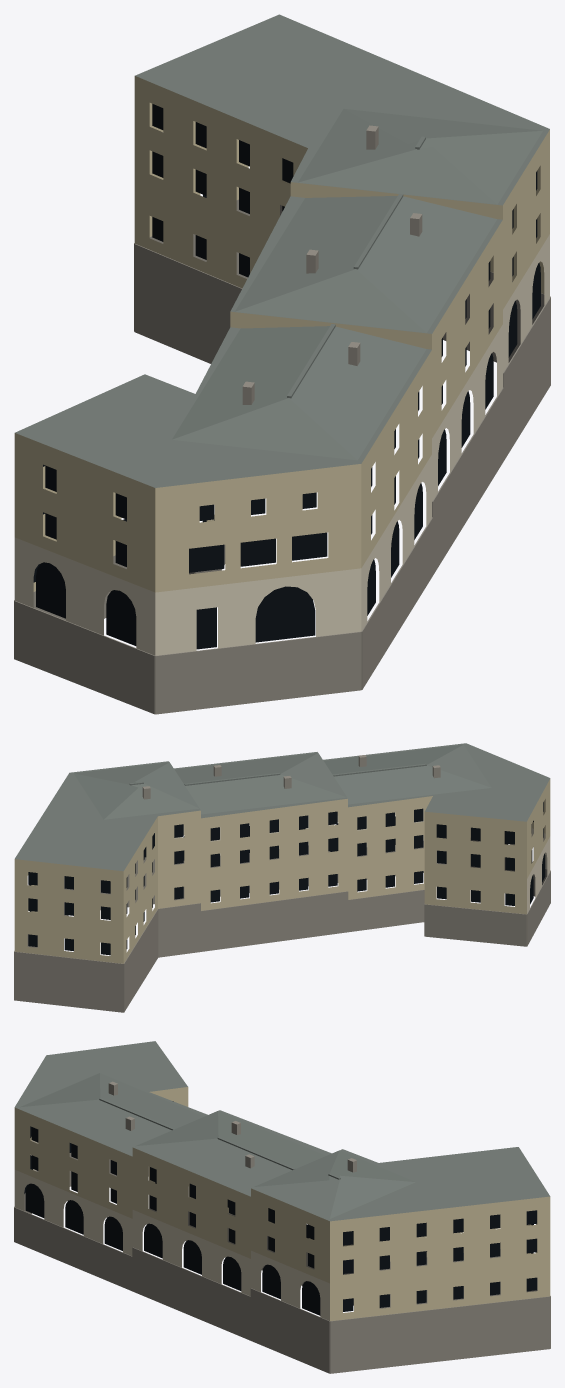
Rendered from bmorskaya33.lod.glb.
3 renders of one model, top to bottom at view 1: azimuth 30°, elevation 25°; view 2: azimuth 150°, elevation 25°; view 3: azimuth 270°, elevation 25°, orthographic. The views are drawn at different scales.
Parts seen in each view (by area): view 1: bmorskaya33_roof, bmorskaya33_wall, bmorskaya33_stone, bmorskaya33_wall2, bmorskaya33_glass; view 2: bmorskaya33_wall, bmorskaya33_roof, bmorskaya33_stone, bmorskaya33_glass, bmorskaya33_wall2; view 3: bmorskaya33_wall, bmorskaya33_roof, bmorskaya33_stone, bmorskaya33_glass, bmorskaya33_wall2.
Boxes of the visible parts, bbox=[...] form: bmorskaya33_roof: bbox=[15, 14, 549, 487]; bmorskaya33_wall: bbox=[14, 76, 549, 592]; bmorskaya33_stone: bbox=[14, 125, 550, 714]; bmorskaya33_wall2: bbox=[14, 234, 549, 655]; bmorskaya33_glass: bbox=[33, 104, 540, 649]; bmorskaya33_wall: bbox=[14, 779, 550, 963]; bmorskaya33_roof: bbox=[15, 743, 550, 871]; bmorskaya33_stone: bbox=[14, 755, 550, 1012]; bmorskaya33_glass: bbox=[28, 802, 545, 955]; bmorskaya33_wall2: bbox=[174, 808, 550, 913]; bmorskaya33_wall: bbox=[14, 1087, 550, 1321]; bmorskaya33_roof: bbox=[15, 1041, 550, 1221]; bmorskaya33_stone: bbox=[14, 1081, 550, 1373]; bmorskaya33_glass: bbox=[24, 1126, 536, 1315]; bmorskaya33_wall2: bbox=[14, 1140, 329, 1320].
Size of the model in its own units: 50.32 by 19.8 by 57.52.
